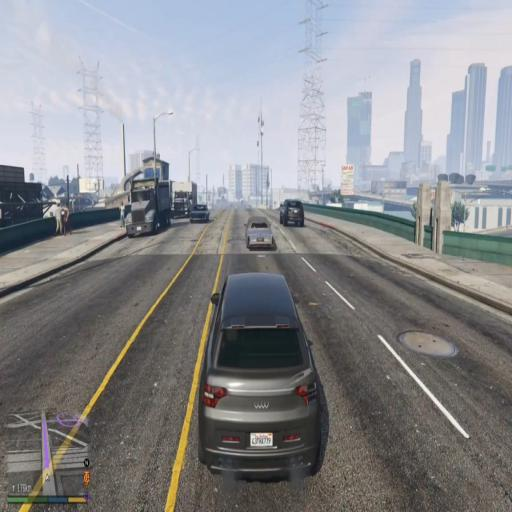Cars: (195, 261, 327, 482), (240, 213, 277, 251), (278, 194, 309, 235), (189, 199, 212, 226)
People: (52, 200, 65, 238), (63, 201, 75, 242), (116, 199, 126, 230)
Trucks: (122, 172, 173, 241), (170, 168, 196, 222)
